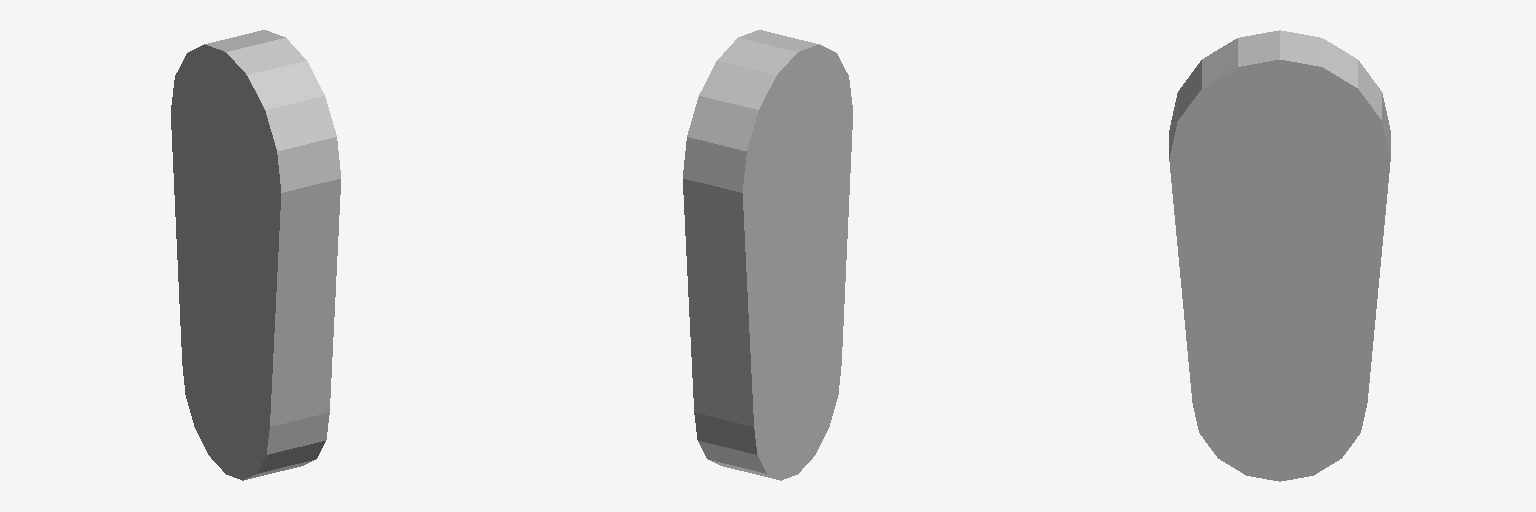
The model's file is track_collision3.obj.
3 views of the same model, side by side, from view 1: azimuth 30°, elevation 25°; view 2: azimuth 150°, elevation 25°; view 3: azimuth 270°, elevation 25° (orthographic).
Visible parts, largest first — view 1: Cylinder; view 2: Cylinder; view 3: Cylinder.
Part boxes in pixels (x1,y1,x2,y2): Cylinder: (171,30,340,480); Cylinder: (683,30,852,480); Cylinder: (1169,30,1390,481).
Bounding box in the file's own units: 0.075 × 0.505 × 0.24.